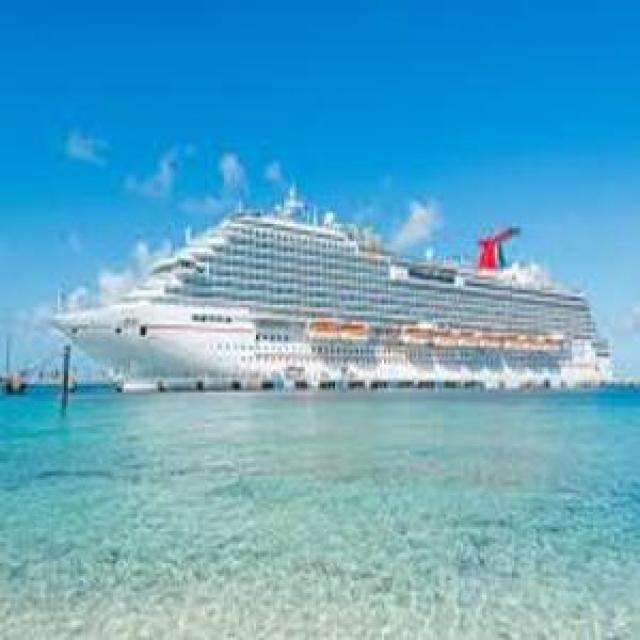passenger ship: (46, 198, 611, 394)
